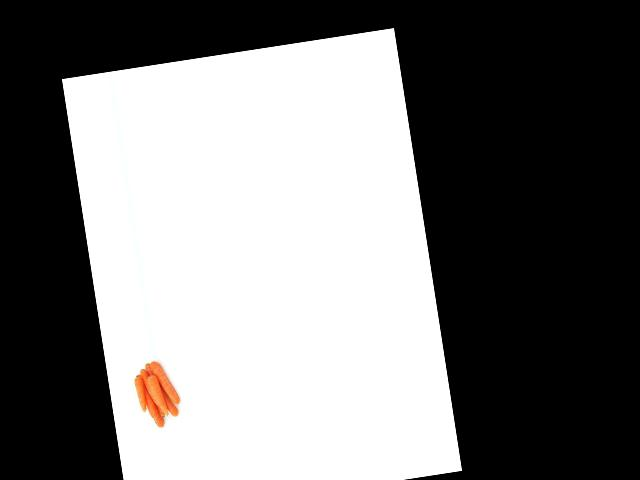carrot: (147, 355, 181, 406)
